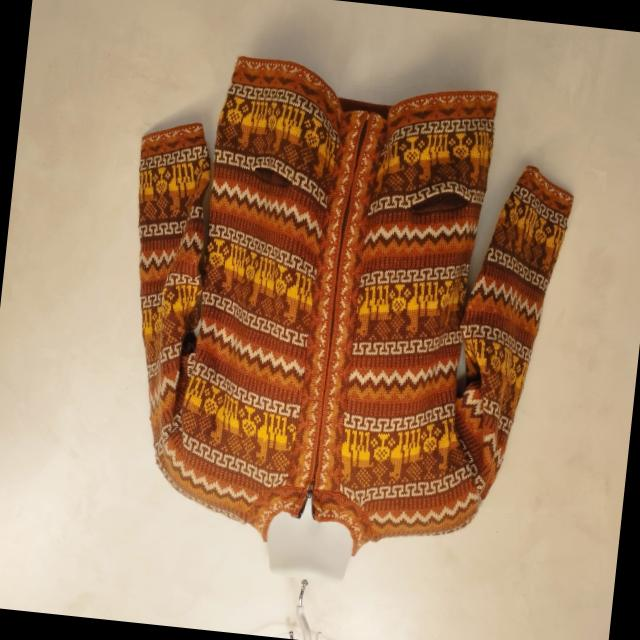Chompa: (98, 45, 586, 590)
